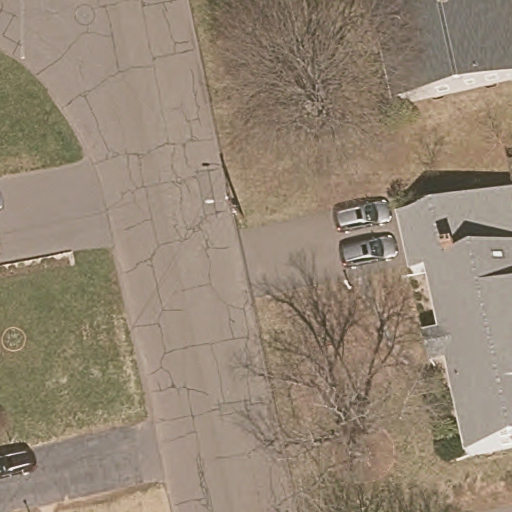DT: (203, 190, 245, 225)
